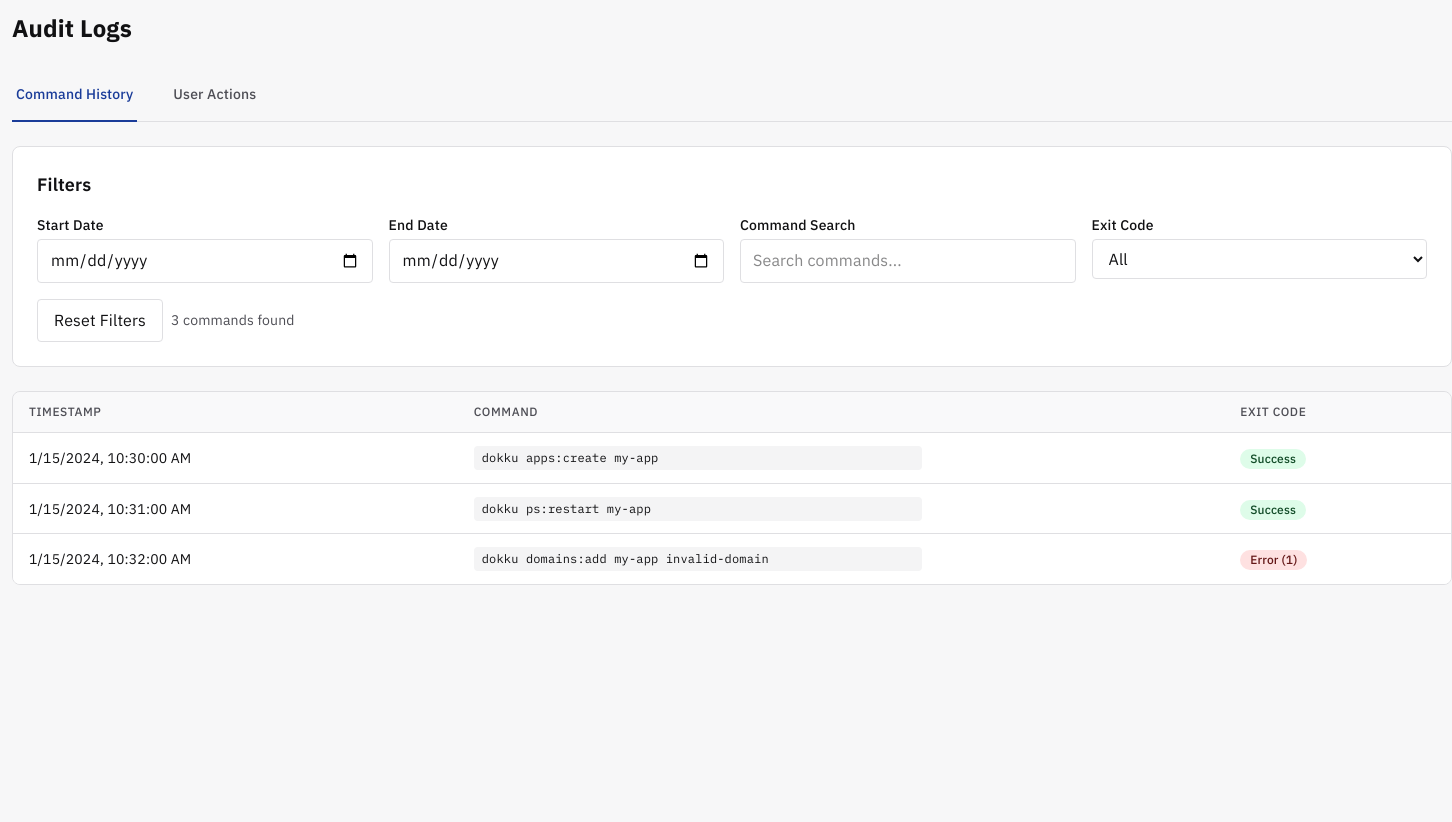
Scenario: Audit › should display no output message when stdout is empty
Check: the text "dokku domains:add my-app invalid-domain" is shown, box [474,547,922,571]
Click the text "dokku domains:add my-app invalid-domain".
click(732, 559)  # box [13,534,1451,584]
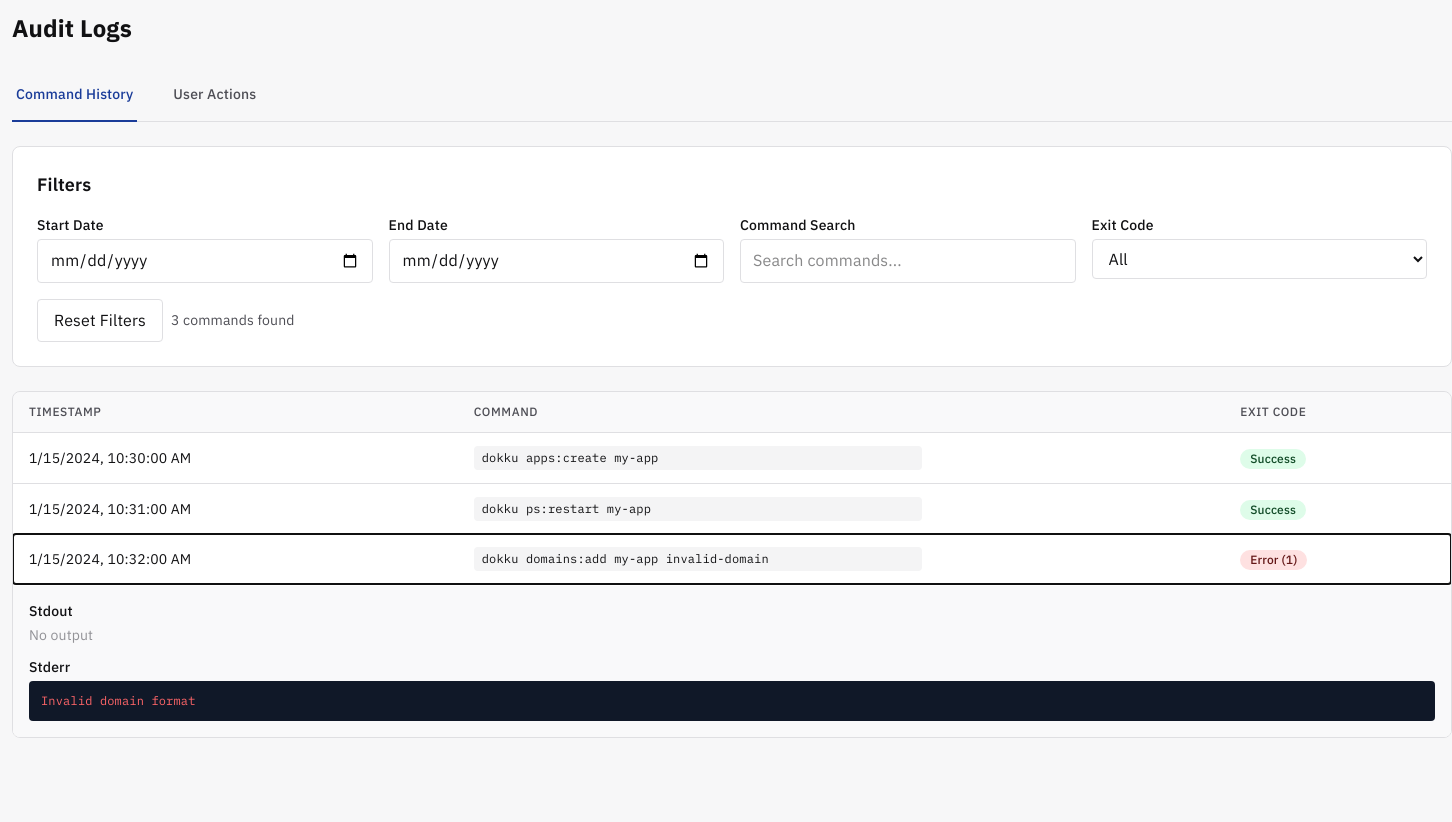
Check: the text "No output" is shown, box [29,626,93,644]
